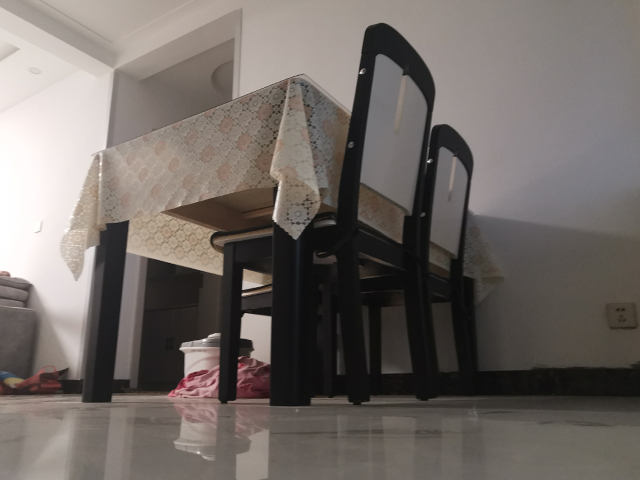cabinet: (136, 297, 202, 394)
stool: (207, 19, 437, 408), (354, 125, 559, 397)
table: (75, 73, 491, 408)
